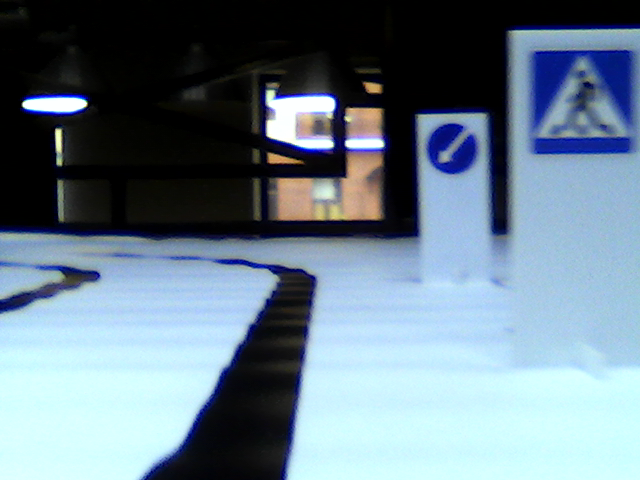pesh: (530, 48, 635, 156)
prep: (424, 123, 480, 174)
